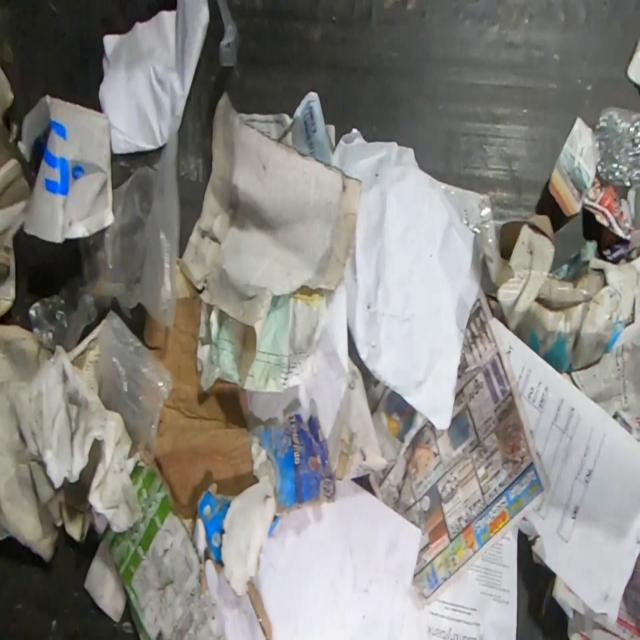cardboard: (181, 90, 362, 352), (143, 297, 259, 518), (82, 465, 226, 640), (495, 267, 622, 374), (249, 398, 336, 518)
rigid_plastic: (594, 105, 640, 186)
soft_plastic: (26, 129, 181, 353), (92, 308, 174, 456), (436, 180, 497, 252)
